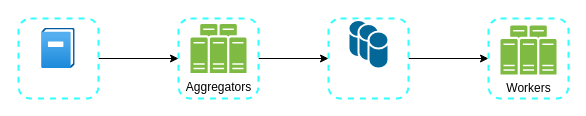
This 586x116 diagram has some shape labels left out. The shapes that lost their labels are listed below. From the top down, each one's box as (x1, y1, x2, y2) in pixels, then its label:
(41, 28, 75, 68): Analytics log
(327, 17, 409, 99): Aggregated Data
